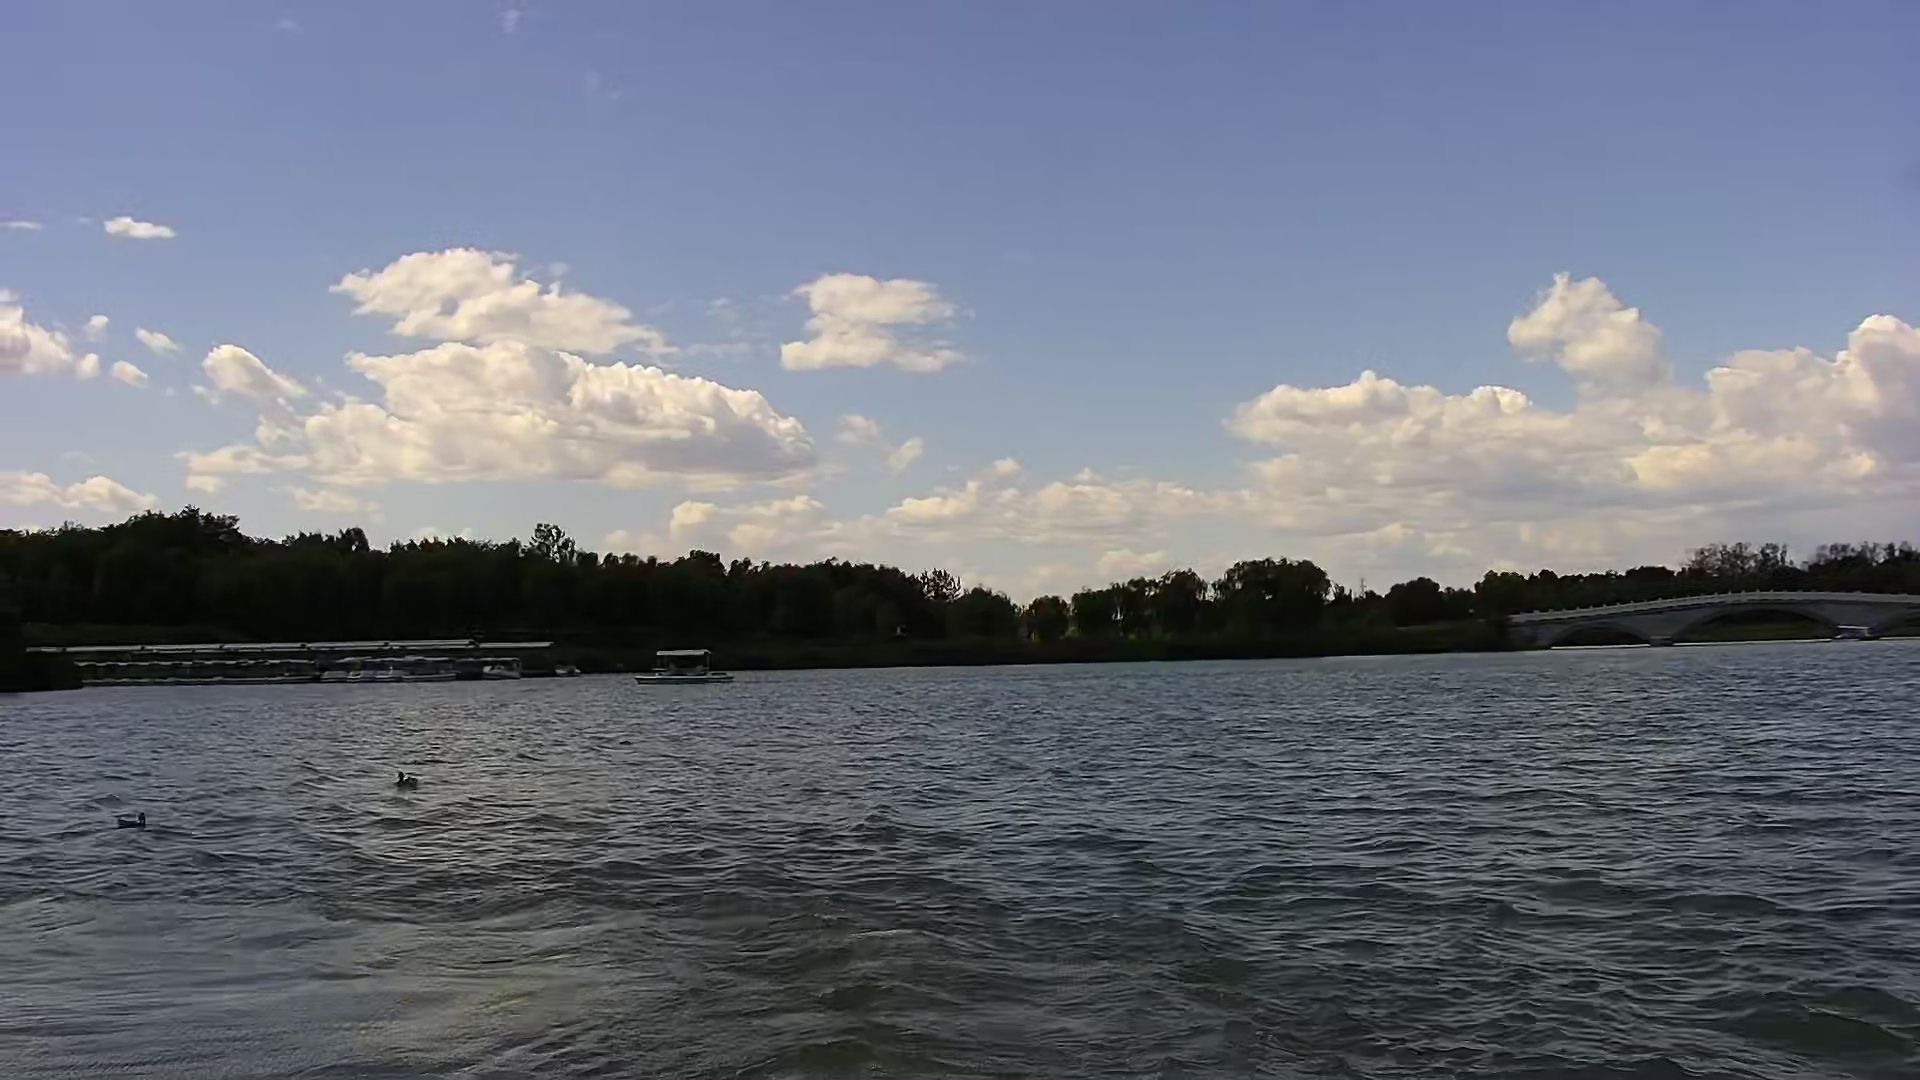animal: (388, 767, 425, 796), (113, 808, 152, 835)
boat: (632, 647, 738, 692)
bridge: (1505, 585, 1920, 658)
harbor: (28, 637, 564, 688)
